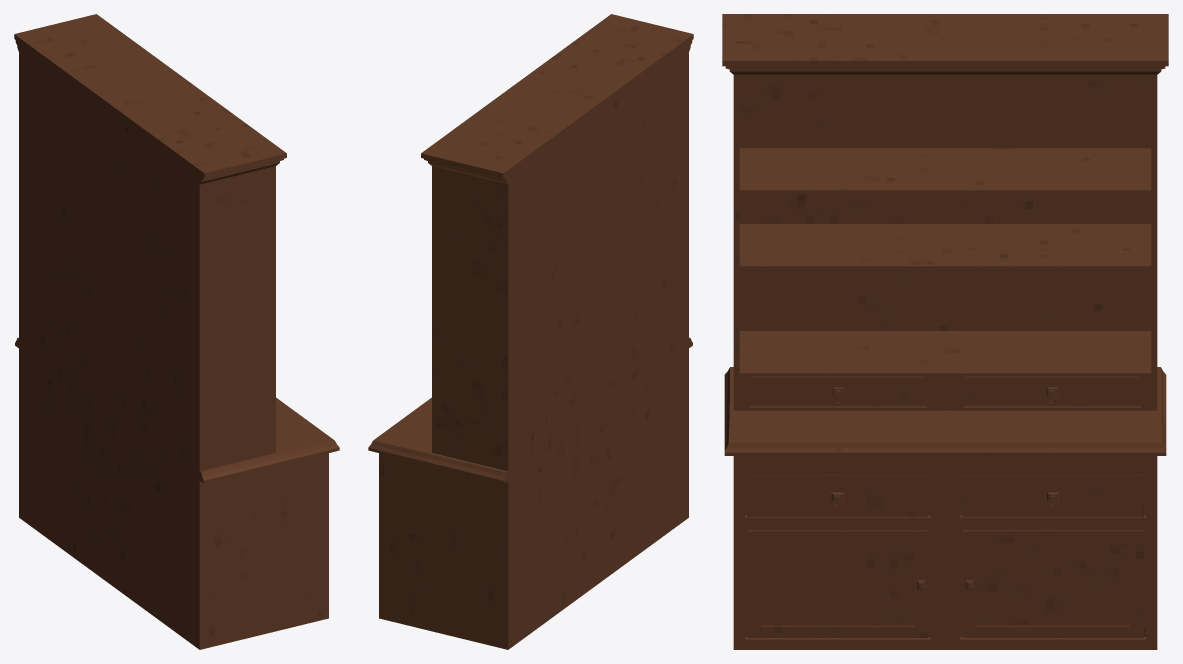
File: Cabinet.fbx
3 renders of one model, left to right at view 1: azimuth 30°, elevation 25°; view 2: azimuth 150°, elevation 25°; view 3: azimuth 270°, elevation 25°, orthographic. The views are drawn at different scales.
Visible parts, largest first — view 1: Cupboard; view 2: Cupboard; view 3: Cupboard, Cupboard_Doors, Cupboard_Drawers.
Boxes of the visible parts, x1=… form: Cupboard: x1=14, y1=14, x2=339, y2=649; Cupboard: x1=368, y1=14, x2=693, y2=649; Cupboard: x1=722, y1=14, x2=1168, y2=649; Cupboard_Doors: x1=747, y1=475, x2=1143, y2=637; Cupboard_Drawers: x1=751, y1=376, x2=1139, y2=406.
Size of the model in its own units: 146 by 491 by 353.
Materials: 1 (1 with a texture image).
